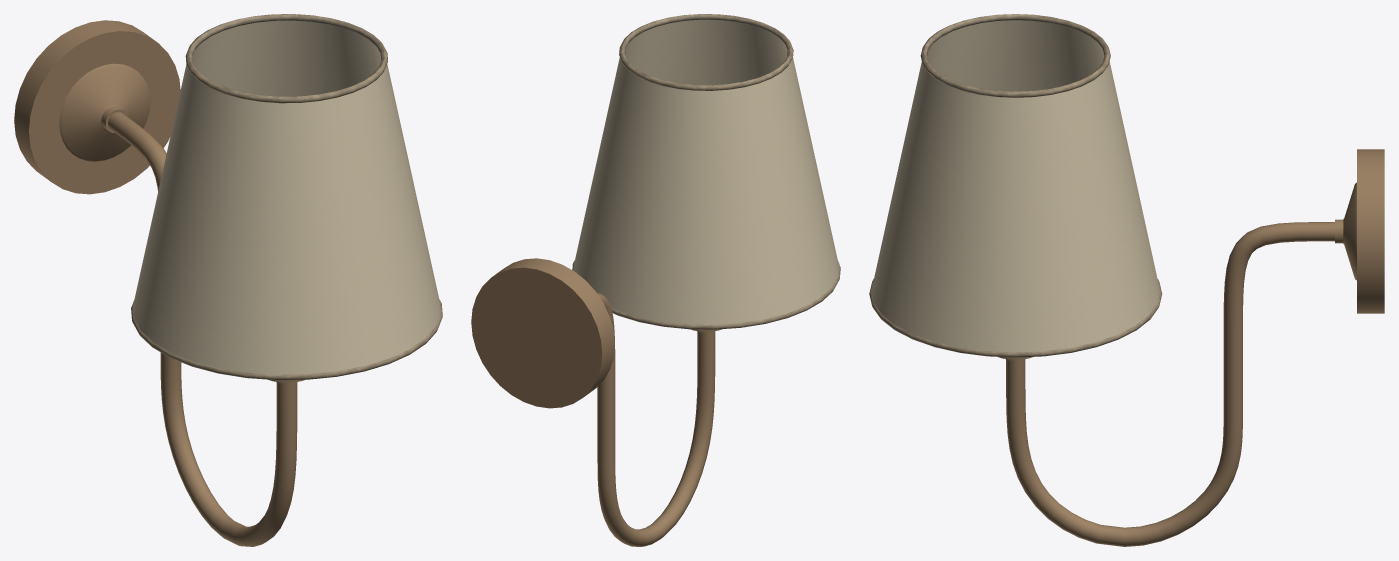
The model's file is wall_lamp_-_2048px2.glb.
3 renders of one model, left to right at view 1: azimuth 30°, elevation 25°; view 2: azimuth 150°, elevation 25°; view 3: azimuth 270°, elevation 25°, orthographic. The views are drawn at different scales.
Parts seen in each view (by area): view 1: Wall Lamp; view 2: Wall Lamp; view 3: Wall Lamp.
Boxes of the visible parts, x1,y1,x2,y2 form: Wall Lamp: (14, 14, 442, 546); Wall Lamp: (471, 14, 840, 546); Wall Lamp: (869, 14, 1384, 546).
Size of the model in its own units: 0.1586 by 0.2946 by 0.2791.
3 materials, 3 textured.
